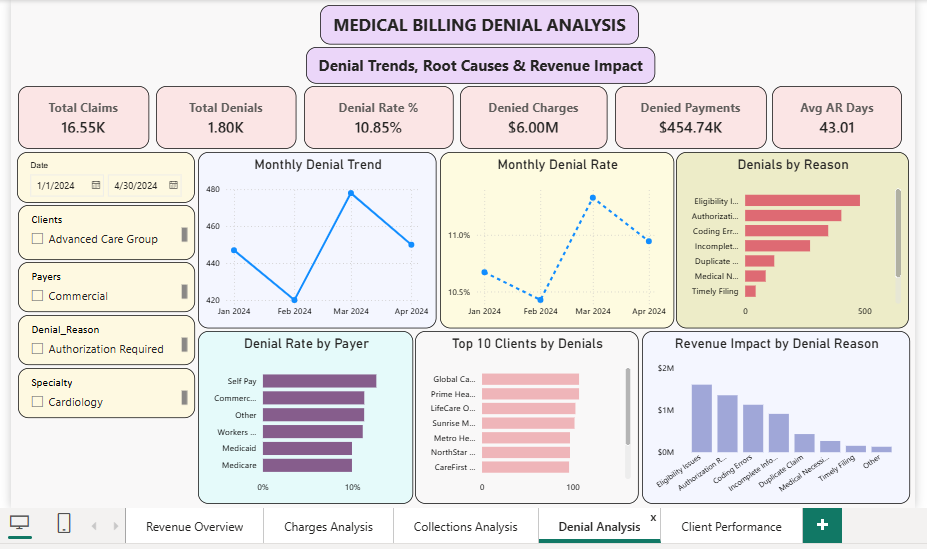

What the dashboard file says about the page in this screenshot:
{"tool":"powerbi","page":{"name":"Denial Analysis","canvas":[1280,720],"ordinal":3},"visuals":[{"type":"textbox","box":[437.8,7.2,452.2,56.2],"z":1000},{"type":"textbox","box":[417.6,66.2,495.4,51.8],"z":2000},{"type":"cardVisual","fields":{"Data":["_Measures.Total Claims"]},"box":[10.1,122.4,185.8,89.3],"z":3000},{"type":"cardVisual","fields":{"Data":["_Measures.Total Denials"]},"box":[205.9,122.4,198.7,89.3],"z":4000},{"type":"cardVisual","fields":{"Data":["_Measures.Denial Rate %"]},"box":[414.7,122.4,211.7,89.3],"z":5000},{"type":"cardVisual","fields":{"Data":["_Measures.Denied Charges"]},"box":[636.5,122.4,208.8,89.3],"z":6000},{"type":"cardVisual","fields":{"Data":["_Measures.Denied Payments"]},"box":[855.4,122.4,214.6,89.3],"z":7000},{"type":"cardVisual","fields":{"Data":["_Measures.Avg AR Days"]},"box":[1078.6,122.4,184.3,89.3],"z":8000},{"type":"lineChart","title":"Monthly Denial Trend","fields":{"Category":["Dim_Date.Year_Month"],"Y":["_Measures.Total Denials"]},"box":[265,216,338.4,250],"z":9000},{"type":"slicer","fields":{"Values":["Dim_Date.Year_Month"]},"box":[8.6,216,252,72],"z":10000},{"type":"slicer","fields":{"Values":["Dim_Client.Client_Name"]},"box":[10.1,290.9,250.6,77.8],"z":11000},{"type":"slicer","fields":{"Values":["Dim_Payer.Payer_Type"]},"box":[10.1,371.5,250.6,70.6],"z":12000},{"type":"slicer","fields":{"Values":["Dim_Denial_Reason.Denial_Reason"]},"box":[10.1,446.4,250.6,70.6],"z":13000},{"type":"slicer","fields":{"Values":["Dim_Specialty.Specialty"]},"box":[10.1,521.3,250.6,70.6],"z":14000},{"type":"lineChart","title":"Monthly Denial Rate","fields":{"Category":["Dim_Date.Year_Month"],"Y":["_Measures.Denial Rate %"]},"box":[607.7,216,332,250],"z":15000},{"type":"barChart","title":"Denials by Reason","fields":{"Category":["Dim_Denial_Reason.Denial_Reason"],"Y":["_Measures.Total Denials"]},"box":[943.2,216,330,250],"z":16000},{"type":"barChart","title":"Denial Rate by Payer","fields":{"Category":["Dim_Payer.Payer_Type"],"Y":["_Measures.Denial Rate %"]},"box":[265,469.4,305.3,244.8],"z":17000},{"type":"barChart","title":"Top 10 Clients by Denials","fields":{"Category":["Dim_Client.Client_Name"],"Y":["_Measures.Total Denials"]},"box":[573.1,469.4,316.8,244.8],"z":18000},{"type":"columnChart","title":"Revenue Impact by Denial Reason","fields":{"Category":["Dim_Denial_Reason.Denial_Reason"],"Y":["_Measures.Denied Charges"]},"box":[894.2,469.4,380,244.8],"z":19000}]}

Visuals, with their boxes on the page's 1280x720 design canvas (x1, y1, x2, y2). These are canvas units, not pixel positions in the 927x549 screenshot, which may show the page scaled, cropped or inside an application window:
textbox: 438,7,890,63
textbox: 418,66,913,118
cardVisual - _Measures.Total Claims: 10,122,196,212
cardVisual - _Measures.Total Denials: 206,122,405,212
cardVisual - _Measures.Denial Rate %: 415,122,626,212
cardVisual - _Measures.Denied Charges: 636,122,845,212
cardVisual - _Measures.Denied Payments: 855,122,1070,212
cardVisual - _Measures.Avg AR Days: 1079,122,1263,212
"Monthly Denial Trend" lineChart: 265,216,603,466
slicer - Dim_Date.Year_Month: 9,216,261,288
slicer - Dim_Client.Client_Name: 10,291,261,369
slicer - Dim_Payer.Payer_Type: 10,372,261,442
slicer - Dim_Denial_Reason.Denial_Reason: 10,446,261,517
slicer - Dim_Specialty.Specialty: 10,521,261,592
"Monthly Denial Rate" lineChart: 608,216,940,466
"Denials by Reason" barChart: 943,216,1273,466
"Denial Rate by Payer" barChart: 265,469,570,714
"Top 10 Clients by Denials" barChart: 573,469,890,714
"Revenue Impact by Denial Reason" columnChart: 894,469,1274,714
